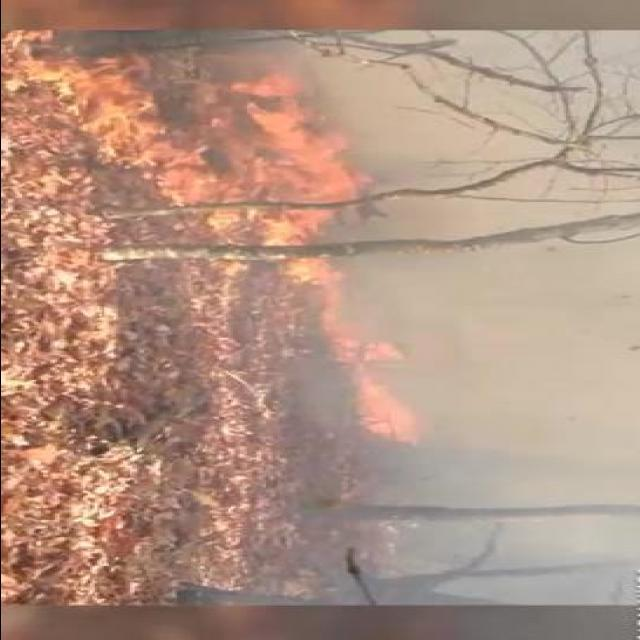Fire: (237, 76, 366, 238), (331, 338, 432, 442)
